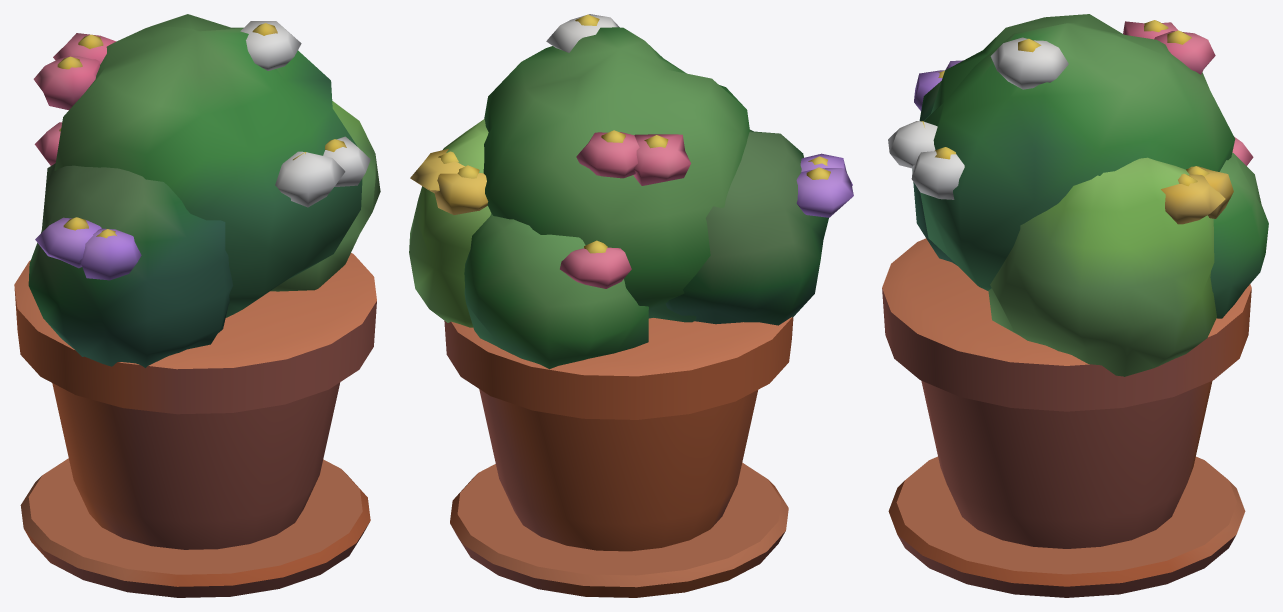
File: PottedPlant.fbx
The picture shows the model from 3 angles, left to right: view 1: azimuth 30°, elevation 25°; view 2: azimuth 150°, elevation 25°; view 3: azimuth 270°, elevation 25°; orthographic projection. The views are drawn at different scales.
Parts seen in each view (by area): view 1: SM_Prop_PottedPlant; view 2: SM_Prop_PottedPlant; view 3: SM_Prop_PottedPlant.
Part boxes in pixels (left/top/right/bottom): SM_Prop_PottedPlant: left=14, top=14, right=380, bottom=597; SM_Prop_PottedPlant: left=409, top=14, right=853, bottom=597; SM_Prop_PottedPlant: left=882, top=14, right=1268, bottom=597.
Size of the model in its own units: 2.78 by 3.49 by 2.39.
